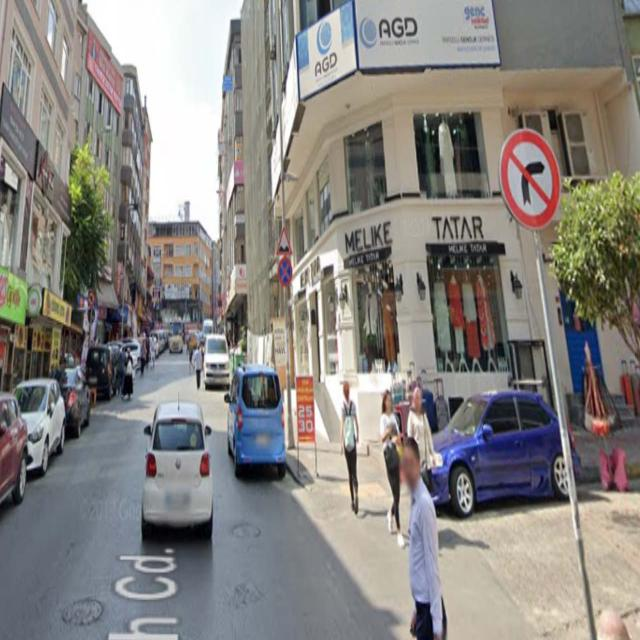sagadonulmez: (498, 126, 560, 228)
